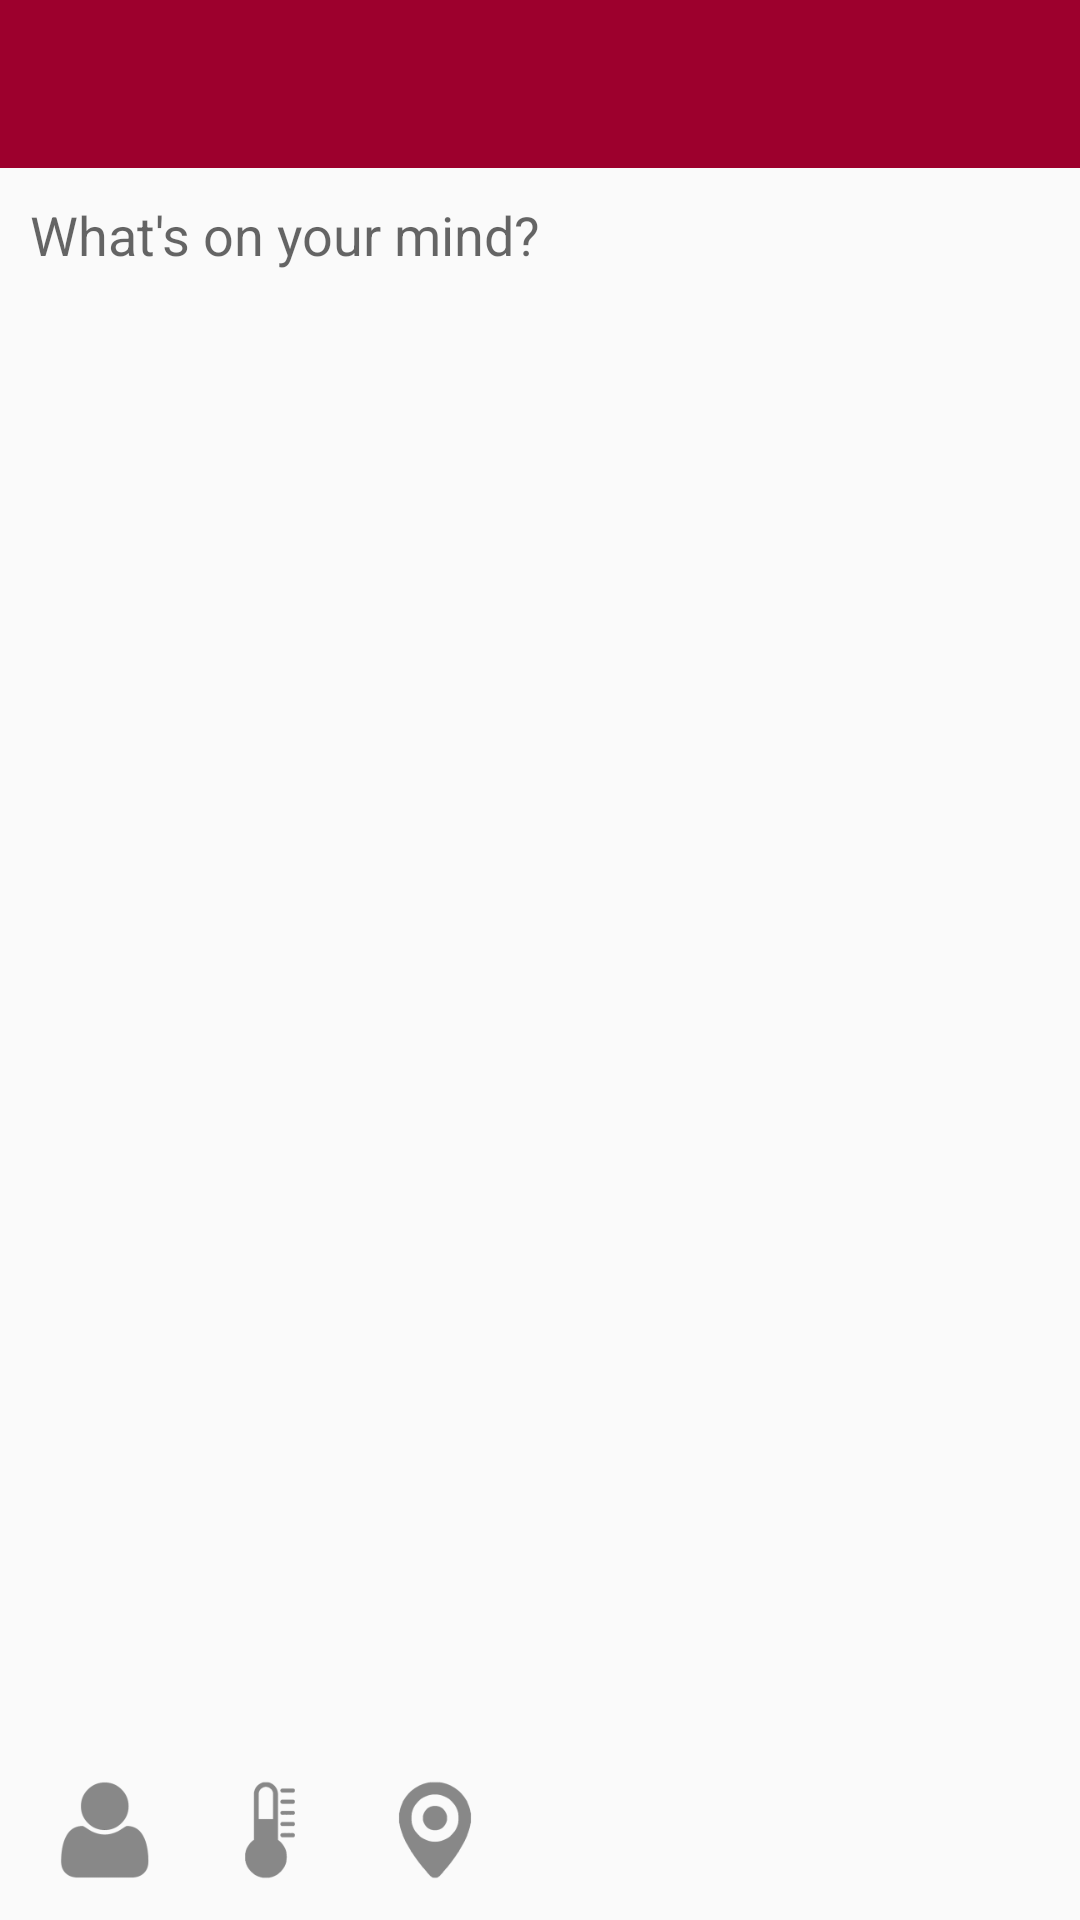

Point at icon controls on the screen. Image size 1080px x 1920px, points as point (x, y).
Location: point (435, 1830)
Name: point (105, 1830)
Thermometer: point (270, 1830)
